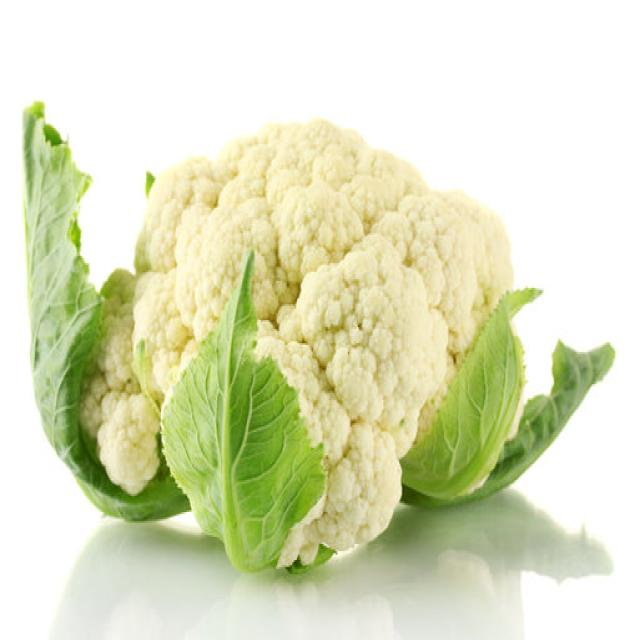Cauliflower: (92, 114, 514, 535)
